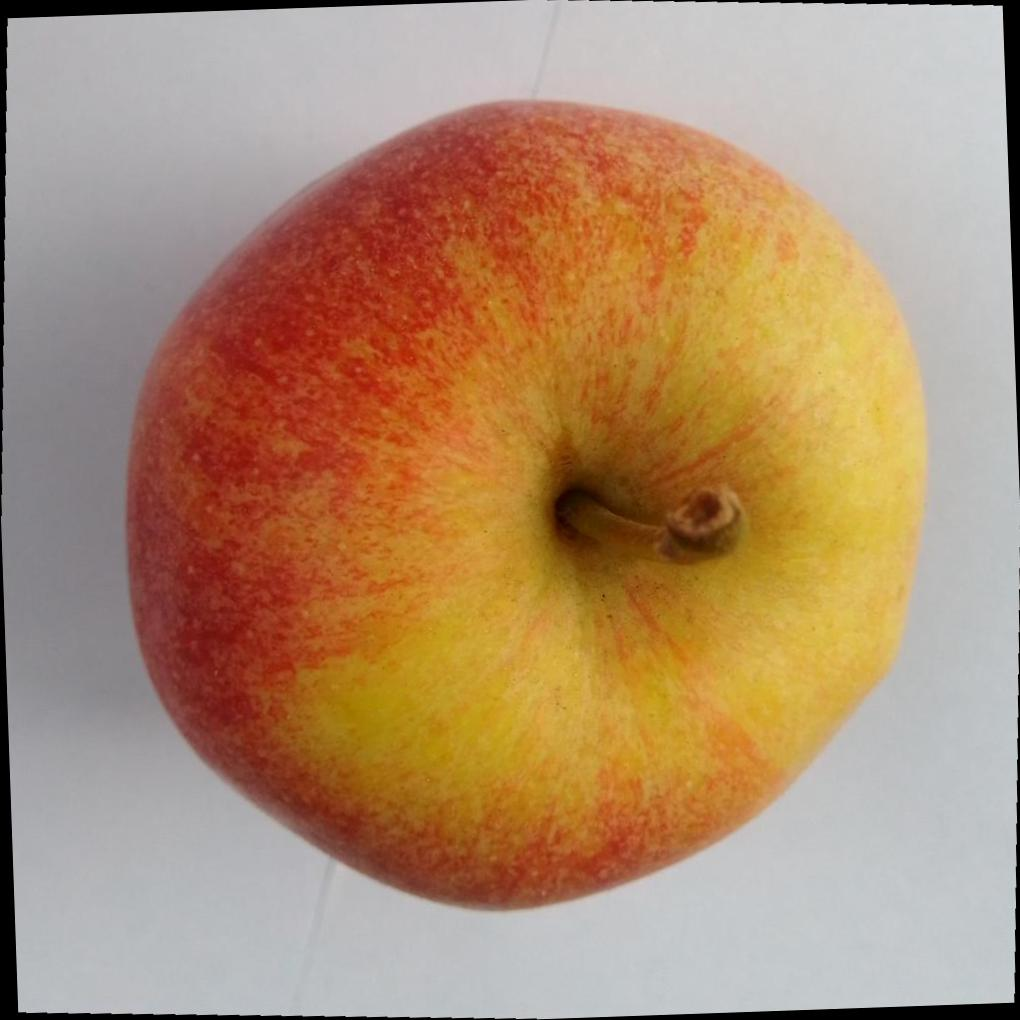FreshGuava: (121, 93, 931, 911)
